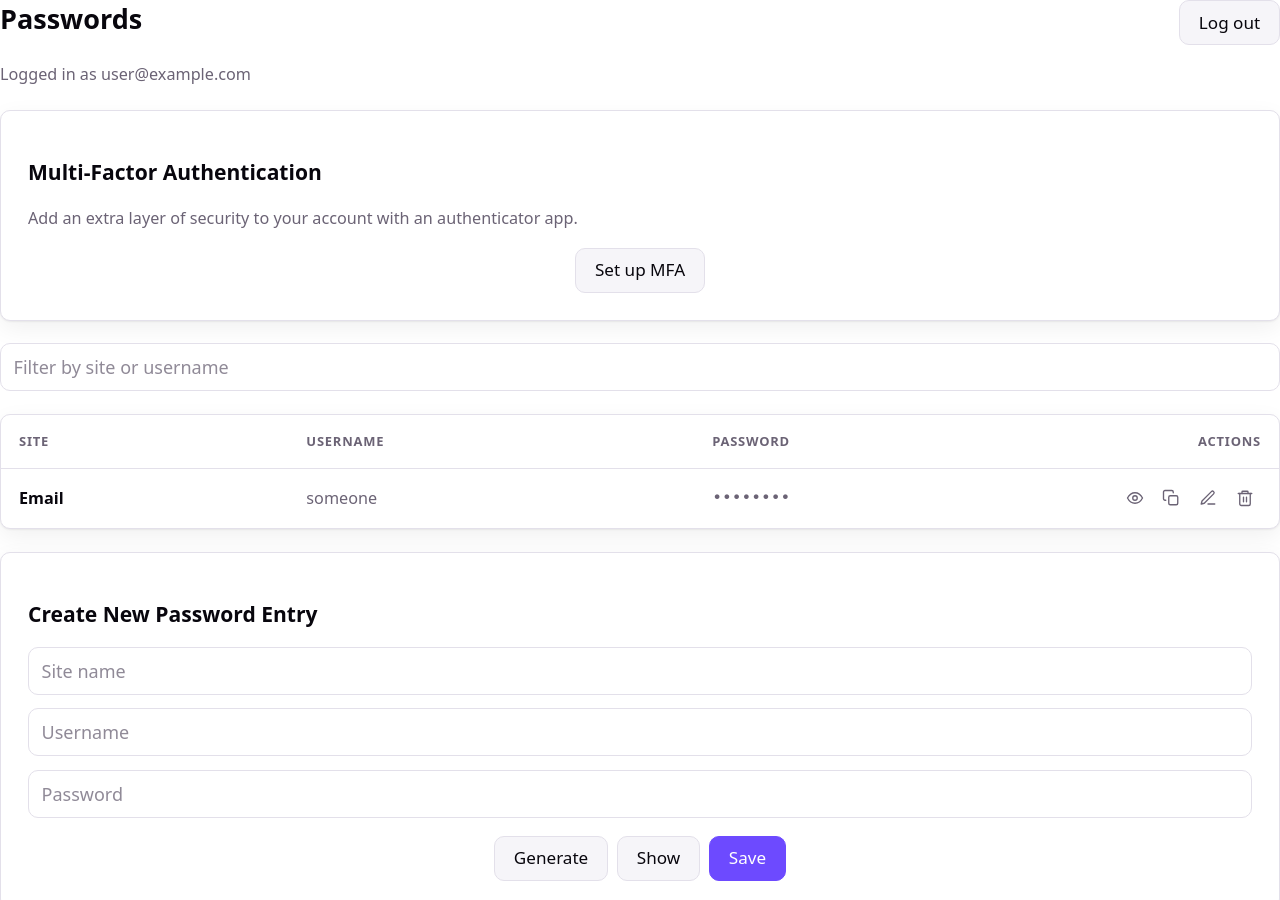
Test: PasswordsPage › shows a no-match message when the filter matches nothing
Expected: the text "Email" is shown, [1, 468, 288, 528]
Type "nonexistent" into the field with placeholder "Filter by site or username" at coordinates (640, 367), box [0, 343, 1279, 391]
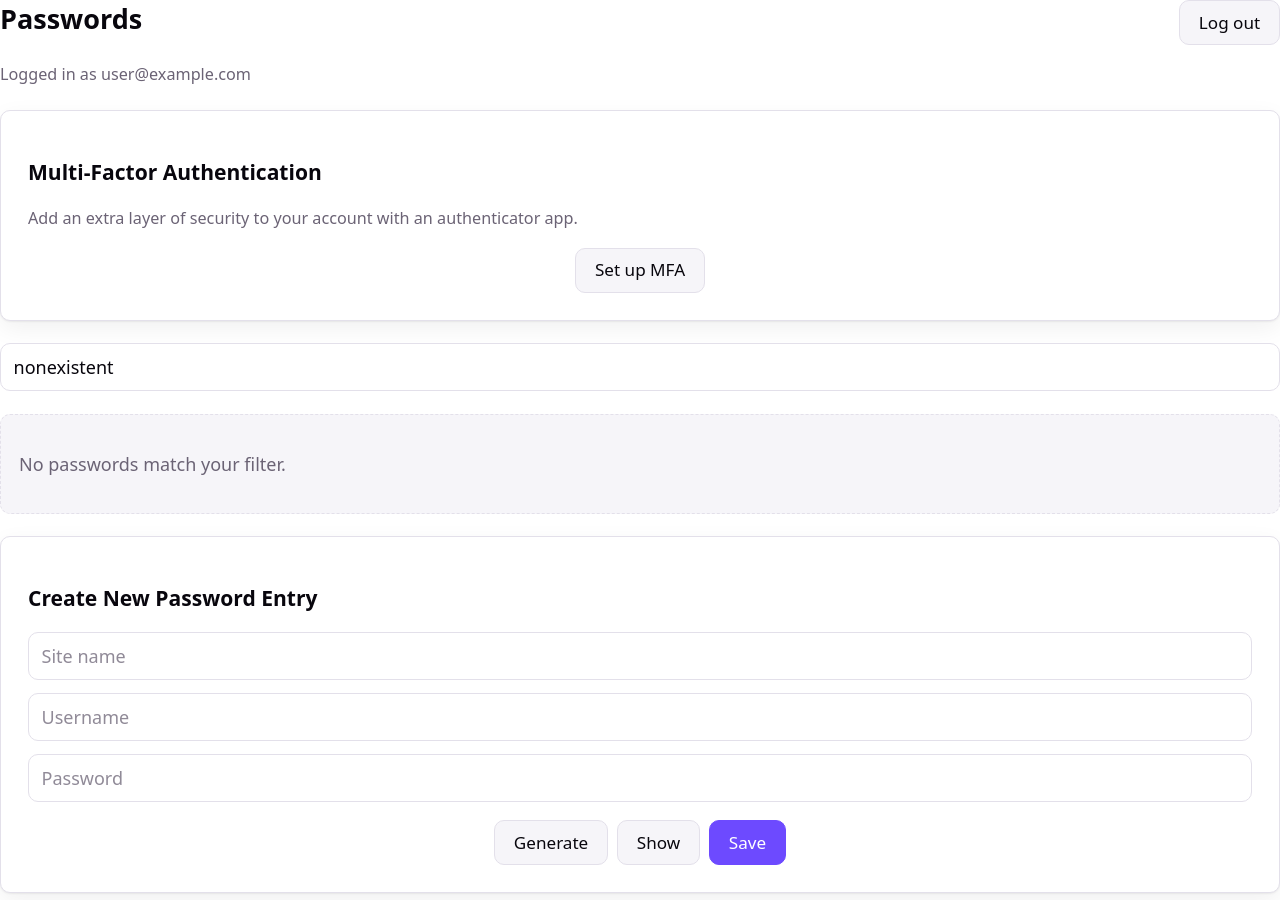
Expected: the text "Email" is gone
Expected: the text "No passwords match your filter." is shown, [0, 414, 1279, 514]
